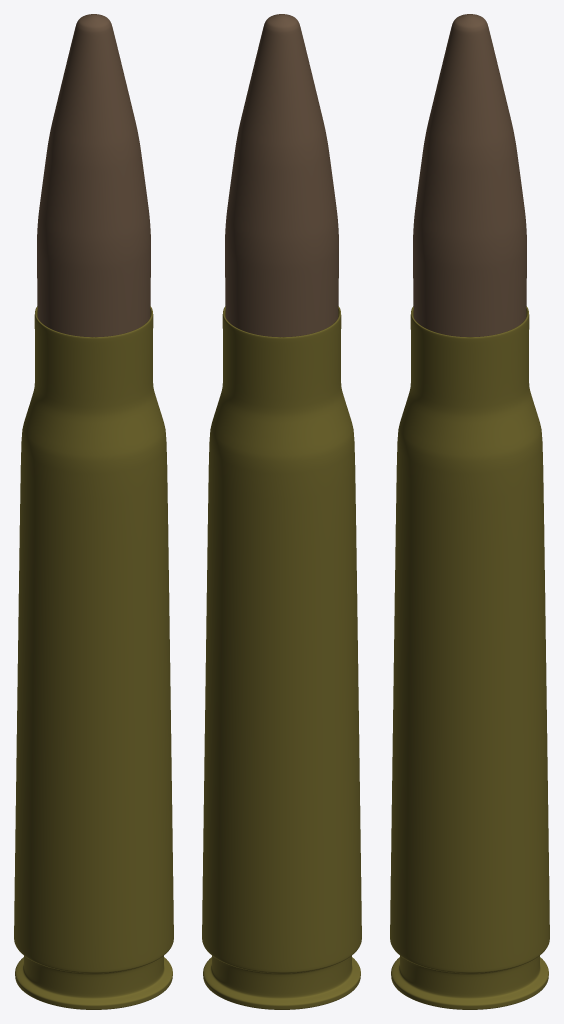
File: bullet.fbx
The picture shows the model from 3 angles, left to right: view 1: azimuth 30°, elevation 25°; view 2: azimuth 150°, elevation 25°; view 3: azimuth 270°, elevation 25°; orthographic projection.
Visible parts, largest first — view 1: Cylinder.014, Cylinder.015; view 2: Cylinder.014, Cylinder.015; view 3: Cylinder.014, Cylinder.015.
Boxes of the visible parts, bbox=[...] form: Cylinder.014: bbox=[14, 306, 173, 1009]; Cylinder.015: bbox=[37, 14, 150, 337]; Cylinder.014: bbox=[202, 306, 361, 1009]; Cylinder.015: bbox=[225, 14, 338, 337]; Cylinder.014: bbox=[390, 306, 549, 1009]; Cylinder.015: bbox=[413, 14, 526, 336].
Size of the model in its own units: 2.04 by 13.56 by 2.04.
